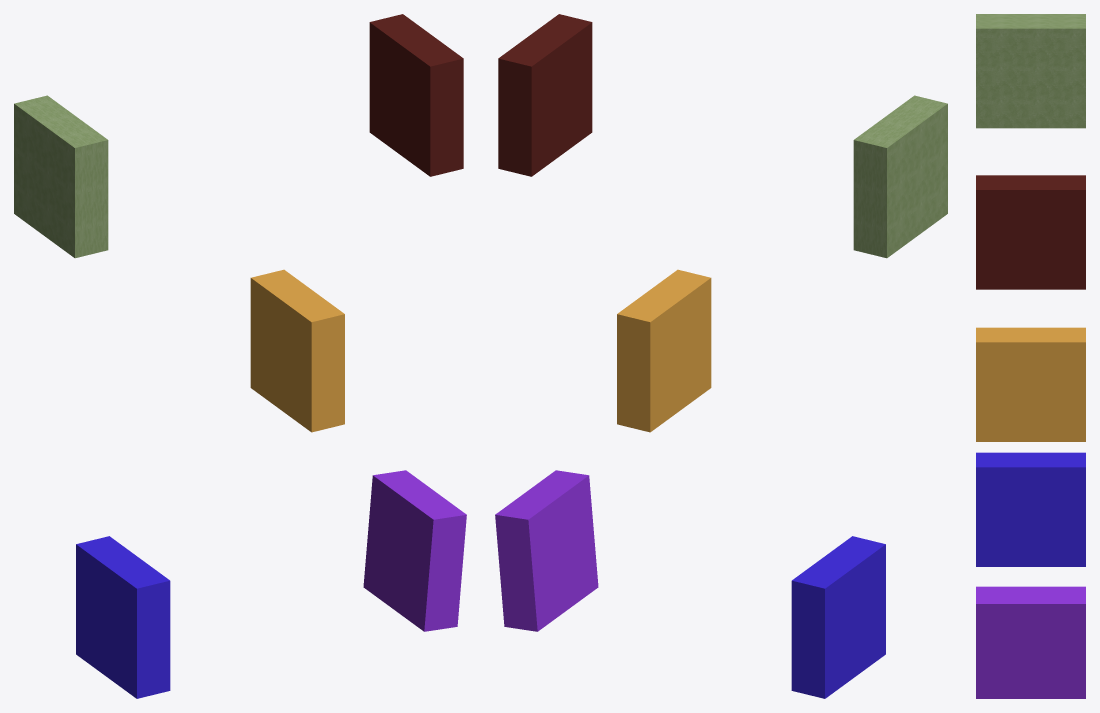
File: Puzzle_Books.glb
The picture shows the model from 3 angles, left to right: view 1: azimuth 30°, elevation 25°; view 2: azimuth 150°, elevation 25°; view 3: azimuth 270°, elevation 25°; orthographic projection. The views are drawn at different scales.
Visible parts, largest first — view 1: Puzzle_Books; view 2: Puzzle_Books; view 3: Puzzle_Books.
Boxes of the visible parts, box(x1,y1,x2,y2) form: Puzzle_Books: box(14, 14, 466, 698); Puzzle_Books: box(495, 14, 947, 698); Puzzle_Books: box(976, 14, 1085, 698).
Size of the model in its own units: 2.85 by 3.98 by 0.7661.
Materials: 5 (1 with a texture image).
